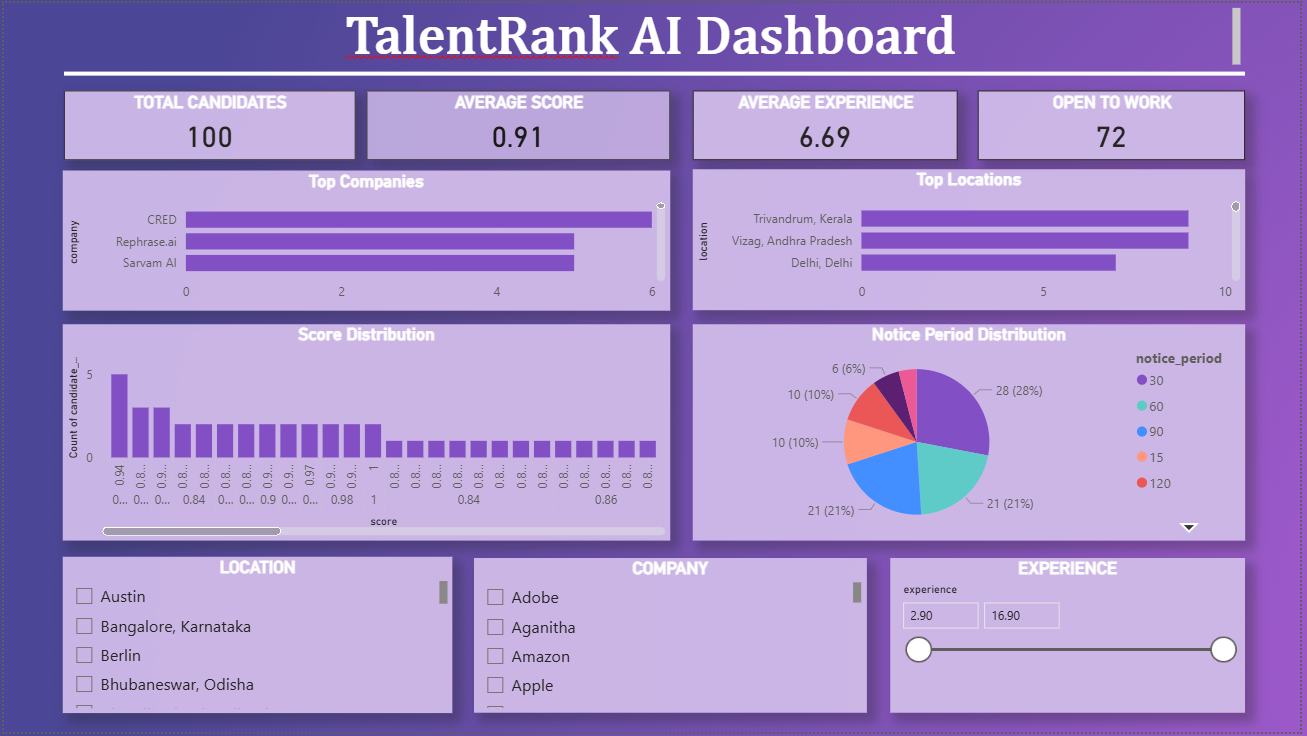

Layout of this report page (visuals, bound fields, positions):
{"tool":"powerbi","page":{"name":"Page 1","canvas":[1280,720],"ordinal":0},"visuals":[{"type":"card","title":"TOTAL CANDIDATES","fields":{"Values":["Count(dashboard_data.candidate_id)"]},"box":[59.3,86.4,287.7,69.1],"z":0},{"type":"card","title":"AVERAGE SCORE","fields":{"Values":["Avg(dashboard_data.score)"]},"box":[358,86.4,300,69.1],"z":1000},{"type":"card","title":"AVERAGE EXPERIENCE","fields":{"Values":["Avg(dashboard_data.experience)"]},"box":[680.2,86.4,261.7,69.1],"z":2000},{"type":"card","title":"OPEN TO WORK","fields":{"Values":["dashboard_data.Open To Work Count"]},"box":[961.7,86.4,264.2,69.1],"z":3000},{"type":"clusteredBarChart","title":"Top Companies","fields":{"Category":["dashboard_data.company"],"Y":["CountNonNull(dashboard_data.candidate_id)"]},"box":[58,165.4,600,138.3],"z":4000},{"type":"clusteredBarChart","title":"Top Locations","fields":{"Category":["dashboard_data.location"],"Y":["CountNonNull(dashboard_data.candidate_id)"]},"box":[680.2,164.2,545.7,139.5],"z":5000},{"type":"clusteredColumnChart","title":"Score Distribution","fields":{"Category":["dashboard_data.score (bins)","dashboard_data.score"],"Y":["CountNonNull(dashboard_data.candidate_id)"]},"box":[58,317.3,600,213.6],"z":6000},{"type":"pieChart","title":"Notice Period Distribution","fields":{"Category":["dashboard_data.notice_period"],"Y":["CountNonNull(dashboard_data.candidate_id)"]},"box":[680.2,317.3,545.7,213.6],"z":7000},{"type":"textbox","box":[58,0,1167.9,69.1],"z":8000},{"type":"shape","box":[59.3,53.1,1166.7,33.3],"z":9000},{"type":"slicer","title":"LOCATION","fields":{"Values":["dashboard_data.location"]},"box":[58,546.9,385.2,154.3],"z":10000},{"type":"slicer","title":"COMPANY","fields":{"Values":["dashboard_data.company"]},"box":[464.2,548.1,387.7,153.1],"z":11000},{"type":"slicer","title":"EXPERIENCE","fields":{"Values":["dashboard_data.experience"]},"box":[875.3,548.1,350.6,153.1],"z":12000}]}

Visuals, with their boxes in screenshot pixels (x1, y1, x2, y2), scaled from the page's 1280x720 canvas onto the 1307x736 screenshot:
"TOTAL CANDIDATES" card: 61,88,354,159
"AVERAGE SCORE" card: 366,88,672,159
"AVERAGE EXPERIENCE" card: 695,88,962,159
"OPEN TO WORK" card: 982,88,1252,159
"Top Companies" clusteredBarChart: 59,169,672,310
"Top Locations" clusteredBarChart: 695,168,1252,310
"Score Distribution" clusteredColumnChart: 59,324,672,543
"Notice Period Distribution" pieChart: 695,324,1252,543
textbox: 59,0,1252,71
shape: 61,54,1252,88
"LOCATION" slicer: 59,559,453,717
"COMPANY" slicer: 474,560,870,717
"EXPERIENCE" slicer: 894,560,1252,717
